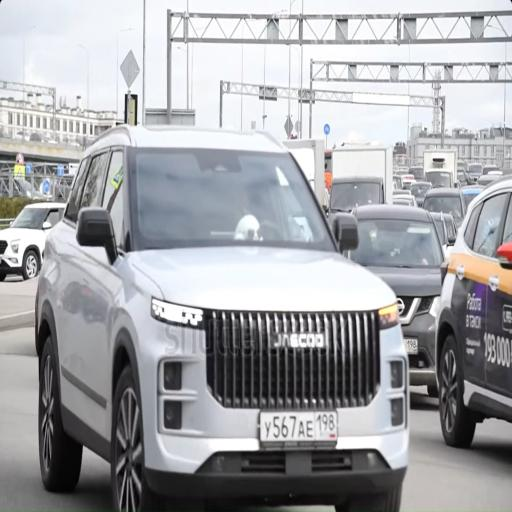License plates: (260, 411, 338, 444), (404, 339, 418, 354)
